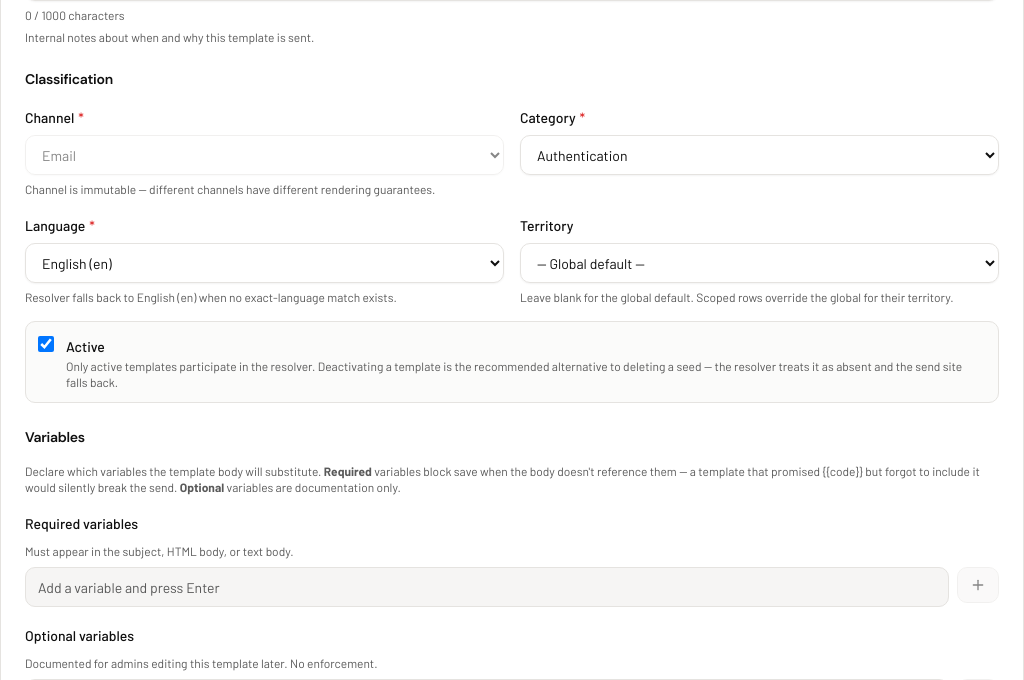
Test: variable chip editor › commits a variable on Enter and clears the input
This screenshot has width=1024, height=680.
(page scrolled)
# Find the "Required variables" input specifically by scoping to its section.
Type "code" into the field with placeholder "Add a variable and press Enter" at {"x": 487, "y": 587}, box x1=25 y1=567 x2=949 y2=607
Then press Enter
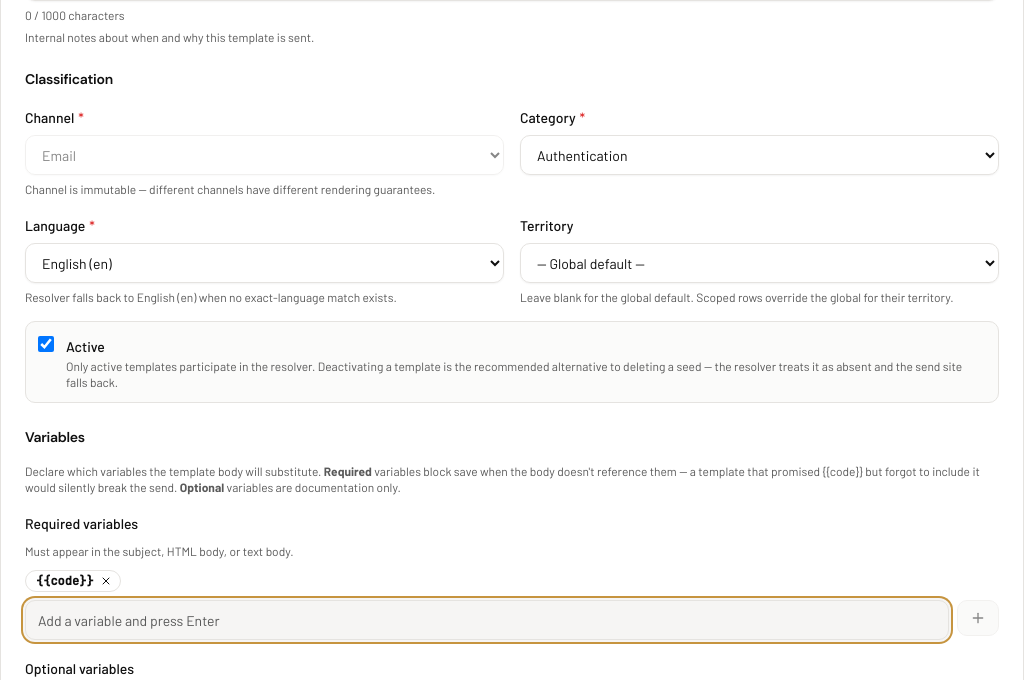
Expected: the field with placeholder "Add a variable and press Enter" is empty, x1=25 y1=600 x2=949 y2=640
Now the text "{{code}}" is shown, box x1=25 y1=570 x2=121 y2=592
